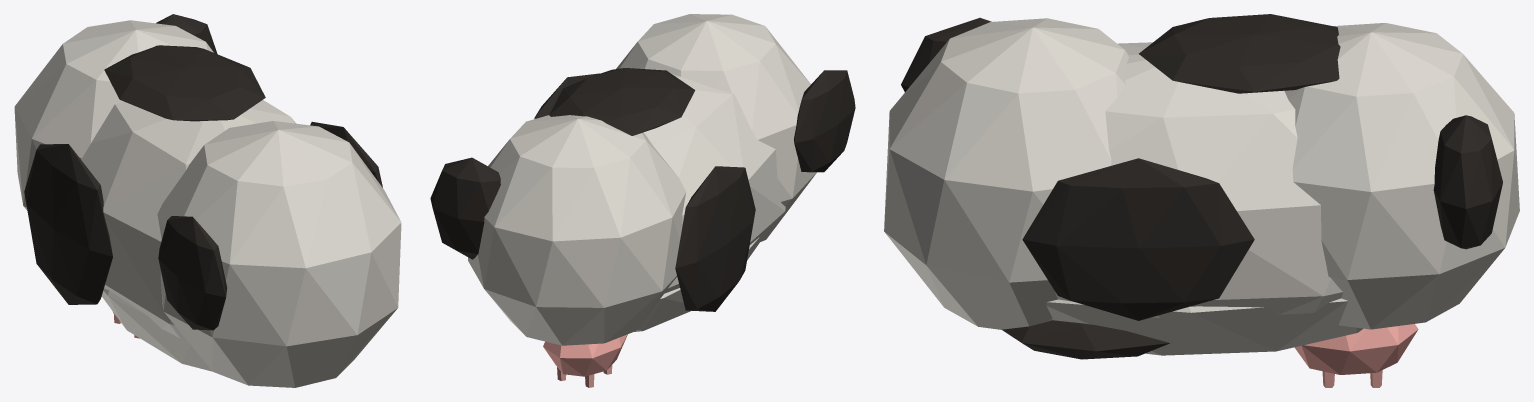
Rendered from cow_0_body.glb.
3 renders of one model, left to right at view 1: azimuth 30°, elevation 25°; view 2: azimuth 150°, elevation 25°; view 3: azimuth 270°, elevation 25°, orthographic. The views are drawn at different scales.
Parts seen in each view (by area): view 1: cow_0_body; view 2: cow_0_body; view 3: cow_0_body.
Boxes of the visible parts, x1,y1,x2,y2 form: cow_0_body: (14,14,401,387); cow_0_body: (430,14,855,387); cow_0_body: (884,14,1519,387).
Bounding box in the file's own units: 0.65 × 0.73 × 1.2.
